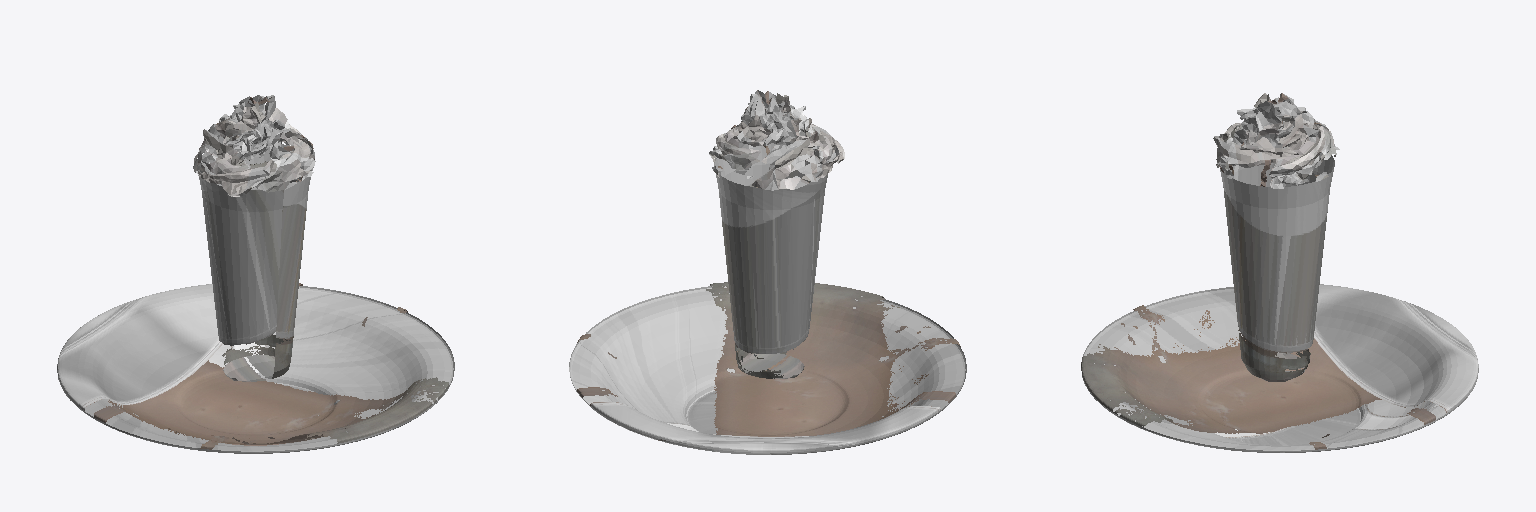
3 views of the same model, side by side, from view 1: azimuth 30°, elevation 25°; view 2: azimuth 150°, elevation 25°; view 3: azimuth 270°, elevation 25° (orthographic).
Visible parts, largest first — view 1: obj1; view 2: obj1; view 3: obj1.
Part boxes in pixels (bbox=[...]): obj1: bbox=[57, 95, 454, 453]; obj1: bbox=[569, 90, 966, 454]; obj1: bbox=[1081, 93, 1478, 452].
Bounding box in the file's own units: 12.92 × 11.56 × 12.92.
2 materials, 2 textured.